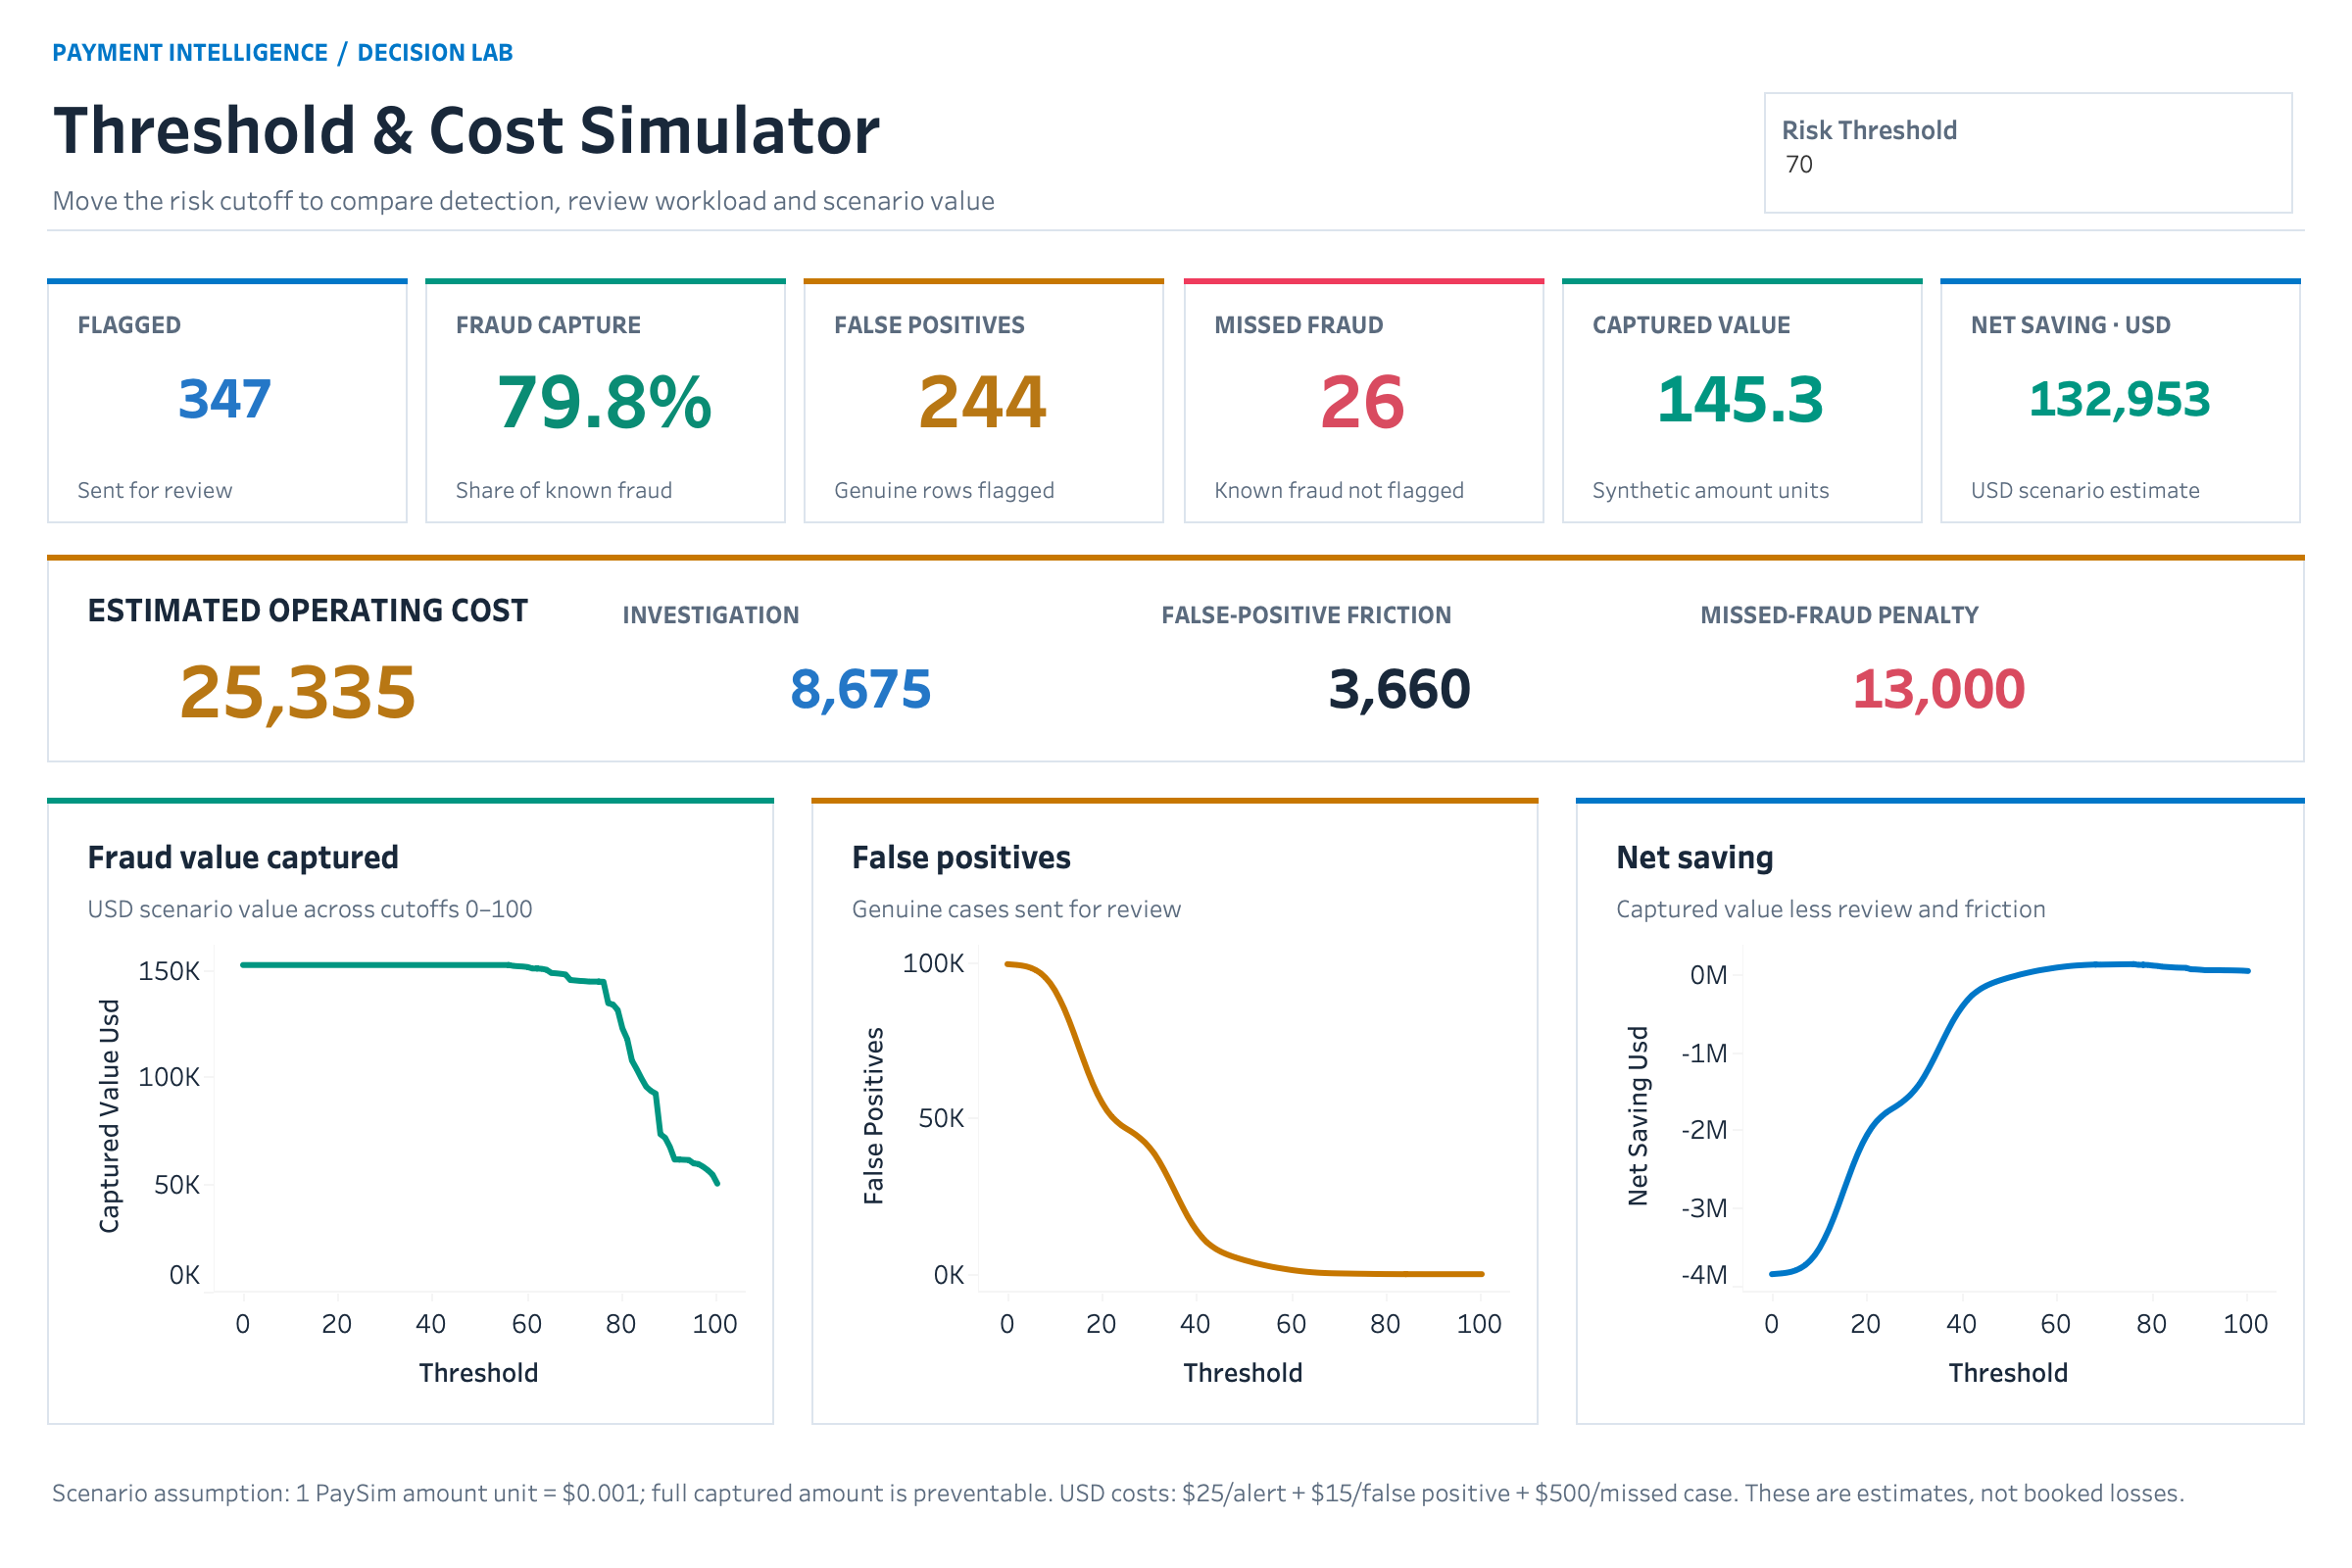

The page's visual inventory and layout, read from the dashboard file:
{"tool":"tableau","page":{"name":"Threshold & Cost Simulator","canvas":[1200,800],"ordinal":2},"visuals":[{"type":"text","box":[24,16,800,20]},{"type":"text","box":[24,42,850,46]},{"type":"parameter","param":"[Parameters].[Parameter 2588708551090187]","box":[900,47,270,62]},{"type":"text","box":[24,91,850,22]},{"type":"blank","box":[24,117,1152,1]},{"type":"blank","box":[24,142,184,125]},{"type":"blank","box":[24,142,184,3]},{"type":"blank","box":[217.2,142,184,125]},{"type":"blank","box":[217.2,142,184,3]},{"type":"blank","box":[410.4,142,184,125]},{"type":"blank","box":[410.4,142,184,3]},{"type":"blank","box":[603.6,142,184,125]},{"type":"blank","box":[603.6,142,184,3]},{"type":"blank","box":[796.8,142,184,125]},{"type":"blank","box":[796.8,142,184,3]},{"type":"blank","box":[990,142,184,125]},{"type":"blank","box":[990,142,184,3]},{"type":"text","box":[37,154,158,22]},{"type":"text","box":[230.2,154,158,22]},{"type":"text","box":[423.4,154,158,22]},{"type":"text","box":[616.6,154,158,22]},{"type":"text","box":[809.8,154,158,22]},{"type":"text","box":[1003,154,158,22]},{"type":"worksheet","title":"Alerts at Threshold","mark":"Text","box":[32,178,168,50]},{"type":"worksheet","title":"Fraud Capture","mark":"Text","box":[225.2,178,168,50]},{"type":"worksheet","title":"False Positives","mark":"Text","box":[418.4,178,168,50]},{"type":"worksheet","title":"Missed Fraud Count","mark":"Text","box":[611.6,178,168,50]},{"type":"worksheet","title":"Fraud Value Captured KPI","mark":"Automatic","box":[804.8,178,168,50]},{"type":"worksheet","title":"Scenario Net Saving KPI","mark":"Text","box":[998,178,168,50]},{"type":"text","box":[37,238,158,24]},{"type":"text","box":[230.2,238,158,24]},{"type":"text","box":[423.4,238,158,24]},{"type":"text","box":[616.6,238,158,24]},{"type":"text","box":[809.8,238,158,24]},{"type":"text","box":[1003,238,158,24]},{"type":"blank","box":[24,283,1152,106]},{"type":"blank","box":[24,283,1152,3]},{"type":"text","box":[42,298,350,25]},{"type":"text","box":[315,303,255,20]},{"type":"text","box":[590,303,255,20]},{"type":"text","box":[865,303,255,20]},{"type":"worksheet","title":"Estimated Cost","mark":"Text","box":[35,324,235,54]},{"type":"worksheet","title":"Review Cost","mark":"Text","box":[315,326,250,49]},{"type":"worksheet","title":"Friction Cost","mark":"Text","box":[590,326,250,49]},{"type":"worksheet","title":"Missed Fraud Cost","mark":"Text","box":[865,326,250,49]},{"type":"blank","box":[24,407,371,320]},{"type":"blank","box":[24,407,371,3]},{"type":"blank","box":[414,407,371,320]},{"type":"blank","box":[414,407,371,3]},{"type":"blank","box":[804,407,372,320]},{"type":"blank","box":[804,407,372,3]},{"type":"text","box":[42,423,335,28]},{"type":"text","box":[432,423,335,28]},{"type":"text","box":[822,423,336,28]},{"type":"text","box":[42,451,335,24]},{"type":"text","box":[432,451,335,24]},{"type":"text","box":[822,451,336,24]},{"type":"worksheet","title":"Threshold Fraud Value Curve","mark":"Line","rows":["captured_value_usd"],"cols":["threshold"],"box":[36,479,347,240]},{"type":"worksheet","title":"Threshold False Positives Curve","mark":"Line","rows":["false_positives"],"cols":["threshold"],"box":[426,479,347,240]},{"type":"worksheet","title":"Threshold Net Saving Curve","mark":"Line","rows":["net_saving_usd"],"cols":["threshold"],"box":[816,479,348,240]},{"type":"text","box":[24,742,1152,39]}]}

Visuals, with their boxes in screenshot pixels (x1, y1, x2, y2), scaled from the page's 1200x800 canvas onto the 2352x1568 screenshot:
text: <box>47,31,1615,71</box>
text: <box>47,82,1713,172</box>
parameter: <box>1764,92,2293,214</box>
text: <box>47,178,1713,221</box>
blank: <box>47,229,2305,231</box>
blank: <box>47,278,408,523</box>
blank: <box>47,278,408,284</box>
blank: <box>425,278,786,523</box>
blank: <box>425,278,786,284</box>
blank: <box>805,278,1165,523</box>
blank: <box>805,278,1165,284</box>
blank: <box>1183,278,1543,523</box>
blank: <box>1183,278,1543,284</box>
blank: <box>1562,278,1923,523</box>
blank: <box>1562,278,1923,284</box>
blank: <box>1940,278,2301,523</box>
blank: <box>1940,278,2301,284</box>
text: <box>73,302,382,345</box>
text: <box>451,302,760,345</box>
text: <box>830,302,1140,345</box>
text: <box>1208,302,1518,345</box>
text: <box>1588,302,1897,345</box>
text: <box>1966,302,2276,345</box>
"Alerts at Threshold" worksheet (Text marks): <box>63,349,392,447</box>
"Fraud Capture" worksheet (Text marks): <box>441,349,770,447</box>
"False Positives" worksheet (Text marks): <box>820,349,1150,447</box>
"Missed Fraud Count" worksheet (Text marks): <box>1199,349,1528,447</box>
"Fraud Value Captured KPI" worksheet: <box>1578,349,1907,447</box>
"Scenario Net Saving KPI" worksheet (Text marks): <box>1956,349,2285,447</box>
text: <box>73,466,382,514</box>
text: <box>451,466,760,514</box>
text: <box>830,466,1140,514</box>
text: <box>1208,466,1518,514</box>
text: <box>1588,466,1897,514</box>
text: <box>1966,466,2276,514</box>
blank: <box>47,555,2305,762</box>
blank: <box>47,555,2305,561</box>
text: <box>82,584,768,633</box>
text: <box>617,594,1117,633</box>
text: <box>1156,594,1656,633</box>
text: <box>1695,594,2195,633</box>
"Estimated Cost" worksheet (Text marks): <box>69,635,529,741</box>
"Review Cost" worksheet (Text marks): <box>617,639,1107,735</box>
"Friction Cost" worksheet (Text marks): <box>1156,639,1646,735</box>
"Missed Fraud Cost" worksheet (Text marks): <box>1695,639,2185,735</box>
blank: <box>47,798,774,1425</box>
blank: <box>47,798,774,804</box>
blank: <box>811,798,1539,1425</box>
blank: <box>811,798,1539,804</box>
blank: <box>1576,798,2305,1425</box>
blank: <box>1576,798,2305,804</box>
text: <box>82,829,739,884</box>
text: <box>847,829,1503,884</box>
text: <box>1611,829,2270,884</box>
text: <box>82,884,739,931</box>
text: <box>847,884,1503,931</box>
text: <box>1611,884,2270,931</box>
"Threshold Fraud Value Curve" worksheet (Line marks): <box>71,939,751,1409</box>
"Threshold False Positives Curve" worksheet (Line marks): <box>835,939,1515,1409</box>
"Threshold Net Saving Curve" worksheet (Line marks): <box>1599,939,2281,1409</box>
text: <box>47,1454,2305,1531</box>
